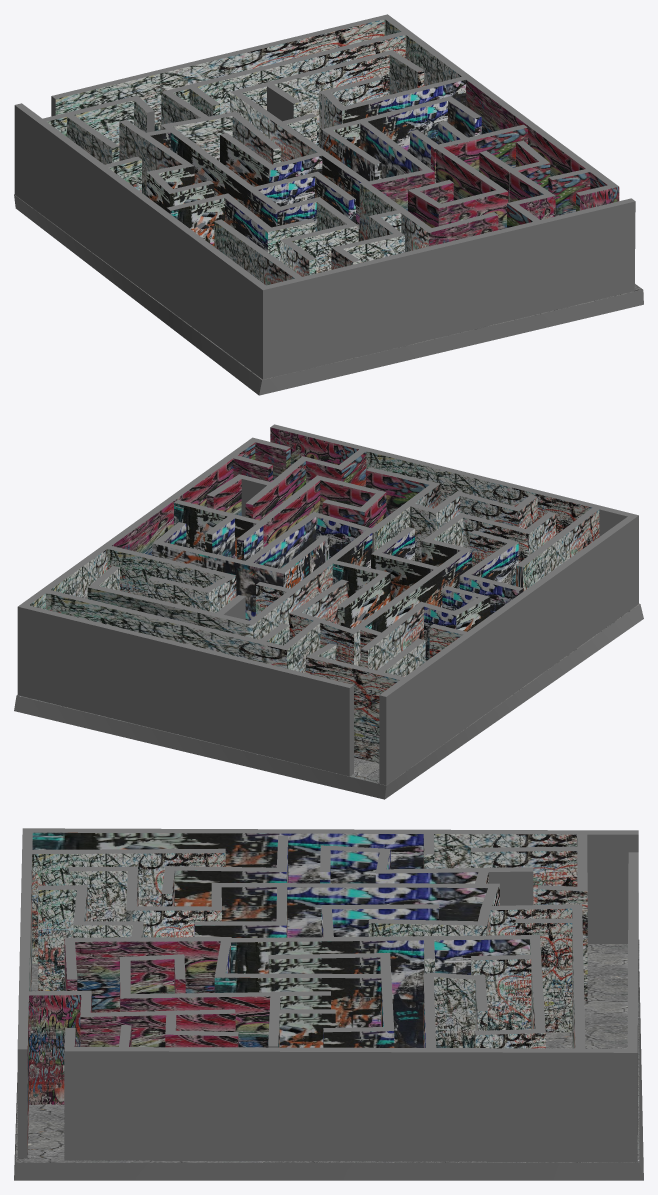
The model's file is Lab2.fbx.
The picture shows the model from 3 angles, top to bottom: view 1: azimuth 30°, elevation 25°; view 2: azimuth 150°, elevation 25°; view 3: azimuth 270°, elevation 25°; orthographic projection. The views are drawn at different scales.
Parts seen in each view (by area): view 1: ParedExterior007, ParedExterior008, Box005, ParedExterior009, Pared018, ParedExterior010, Pared049, Pared019, Pared030, Pared054, Pared042, Pared052 (+46 smaller); view 2: ParedExterior009, ParedExterior008, Box005, ParedExterior007, ParedExterior010, Pared049, Pared018, Pared045, Pared030, Pared052, Pared054, Pared042 (+47 smaller); view 3: ParedExterior010, Box005, ParedExterior008, Pared018, Pared030, Pared042, Pared057, Pared070, Pared048, Pared060, ParedExterior007, Pared021 (+36 smaller).
Part boxes in pixels (<box>): ParedExterior007: <box>266,198,635,377</box>; ParedExterior008: <box>14,103,270,379</box>; Box005: <box>14,108,643,395</box>; ParedExterior009: <box>51,14,391,130</box>; Pared018: <box>230,90,435,252</box>; ParedExterior010: <box>384,17,614,185</box>; Pared049: <box>162,32,405,114</box>; Pared019: <box>238,50,396,146</box>; Pared030: <box>160,124,279,227</box>; Pared054: <box>322,96,450,152</box>; Pared042: <box>214,219,301,285</box>; Pared052: <box>342,76,465,123</box>; ParedExterior009: <box>17,603,353,776</box>; ParedExterior008: <box>379,513,638,785</box>; Box005: <box>14,443,643,799</box>; ParedExterior007: <box>270,424,631,536</box>; ParedExterior010: <box>22,440,254,609</box>; Pared049: <box>46,590,286,668</box>; Pared018: <box>245,482,440,639</box>; Pared045: <box>306,654,403,763</box>; Pared030: <box>352,550,467,666</box>; Pared052: <box>107,546,235,597</box>; Pared054: <box>152,542,283,620</box>; Pared042: <box>516,507,599,590</box>; ParedExterior010: <box>74,1047,627,1162</box>; Box005: <box>14,940,643,1180</box>; ParedExterior008: <box>22,828,638,943</box>; Pared018: <box>64,935,539,1047</box>; Pared030: <box>221,883,499,937</box>; Pared042: <box>32,848,225,963</box>; Pared057: <box>214,973,381,1027</box>; Pared070: <box>29,990,91,1104</box>; Pared048: <box>515,918,572,1032</box>; Pared060: <box>120,992,270,1047</box>; ParedExterior007: <box>17,832,32,1158</box>; Pared021: <box>471,955,531,1030</box>.
Size of the model in its own units: 348 by 90.56 by 407.
